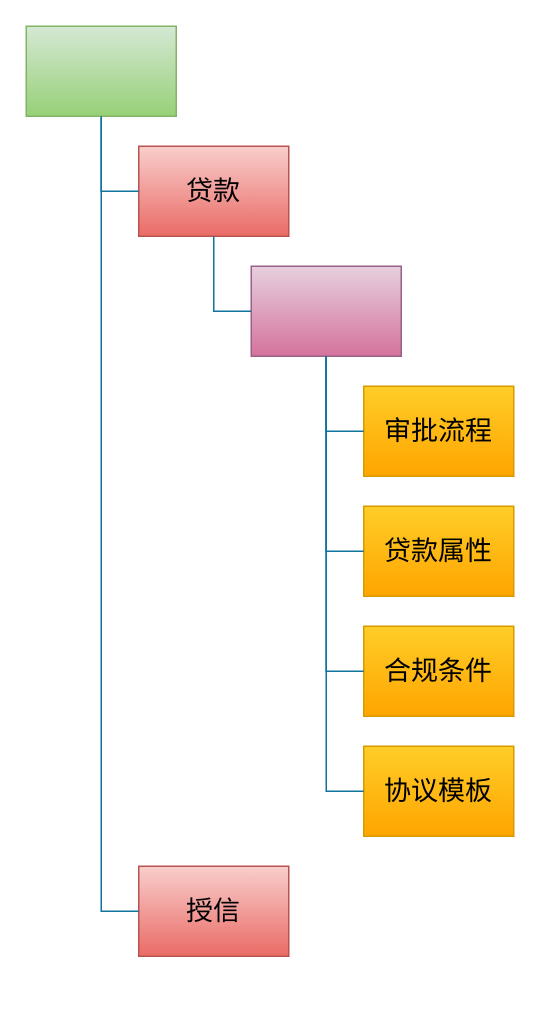
Some shapes in this 540 by 1014 pixel diagram are drawn without their labels. The centre of each missing label's shape, as x and y in pixels:
产品类型: the point at 100,70
贷款申请: the point at 325,310
